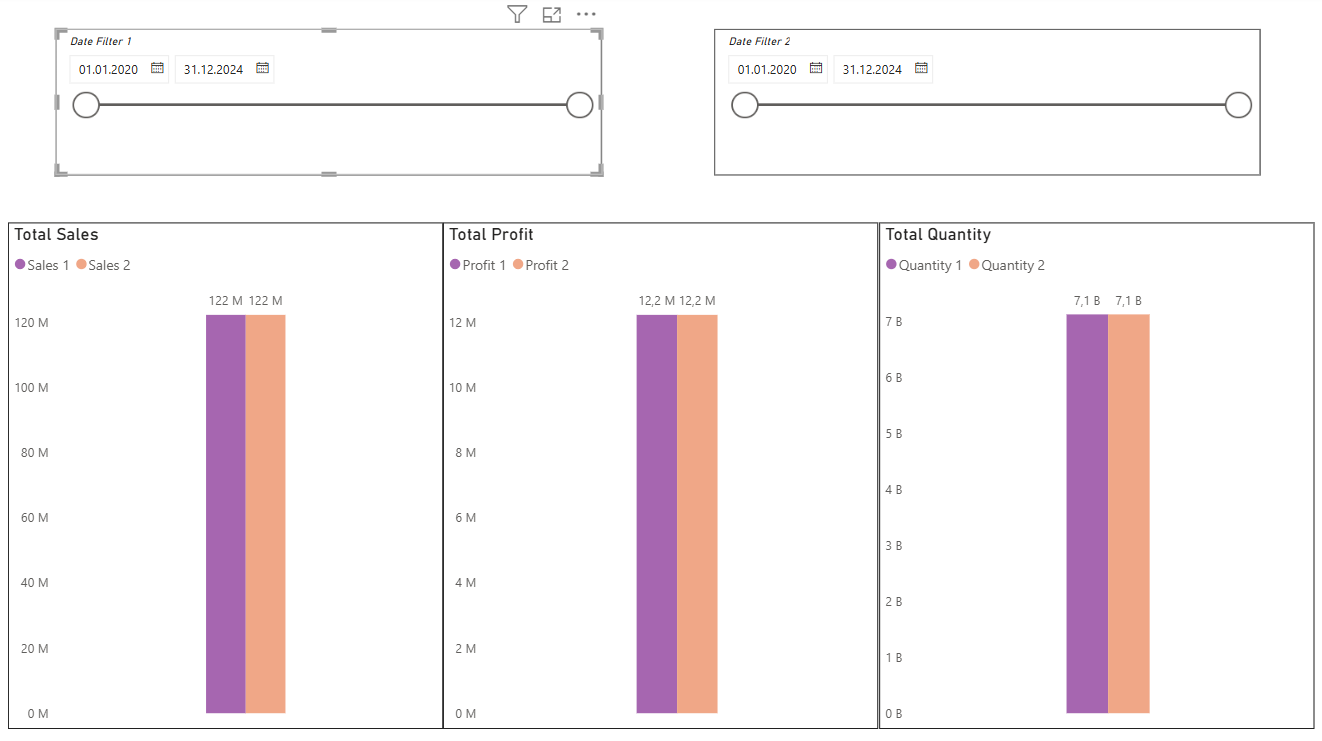

What the dashboard file says about the page in this screenshot:
{"tool":"powerbi","page":{"name":"Compare Sales/Profit/Quantity","canvas":[1280,720],"ordinal":3},"visuals":[{"type":"slicer","fields":{"Values":["Date Table 1.Date"]},"box":[55,32.5,527.5,141.2],"z":0},{"type":"slicer","fields":{"Values":["Date Table 2.Date"]},"box":[691.2,32.5,527.5,141.2],"z":1000},{"type":"clusteredColumnChart","title":"Total Sales","fields":{"Y":["Sum(Fact Table.Net Sales)","Date Table 1.Sum of Net Sales"]},"box":[10,220,420,488.8],"z":2000},{"type":"clusteredColumnChart","title":"Total Profit","fields":{"Y":["Sum(Fact Table.Profit)","Measures Table.Total Profit"]},"box":[430,220,420,488.8],"z":3000},{"type":"clusteredColumnChart","title":"Total Quantity","fields":{"Y":["Sum(Fact Table.Units Sold)","Measures Table.Total Quantity"]},"box":[850,220,420,488.8],"z":4000}]}

Visuals, with their boxes in screenshot pixels (x1, y1, x2, y2), scaled from the page's 1280x720 canvas onto the 1322x741 screenshot:
slicer - Date Table 1.Date: box(57, 33, 602, 179)
slicer - Date Table 2.Date: box(714, 33, 1259, 179)
"Total Sales" clusteredColumnChart: box(10, 226, 444, 729)
"Total Profit" clusteredColumnChart: box(444, 226, 878, 729)
"Total Quantity" clusteredColumnChart: box(878, 226, 1312, 729)
